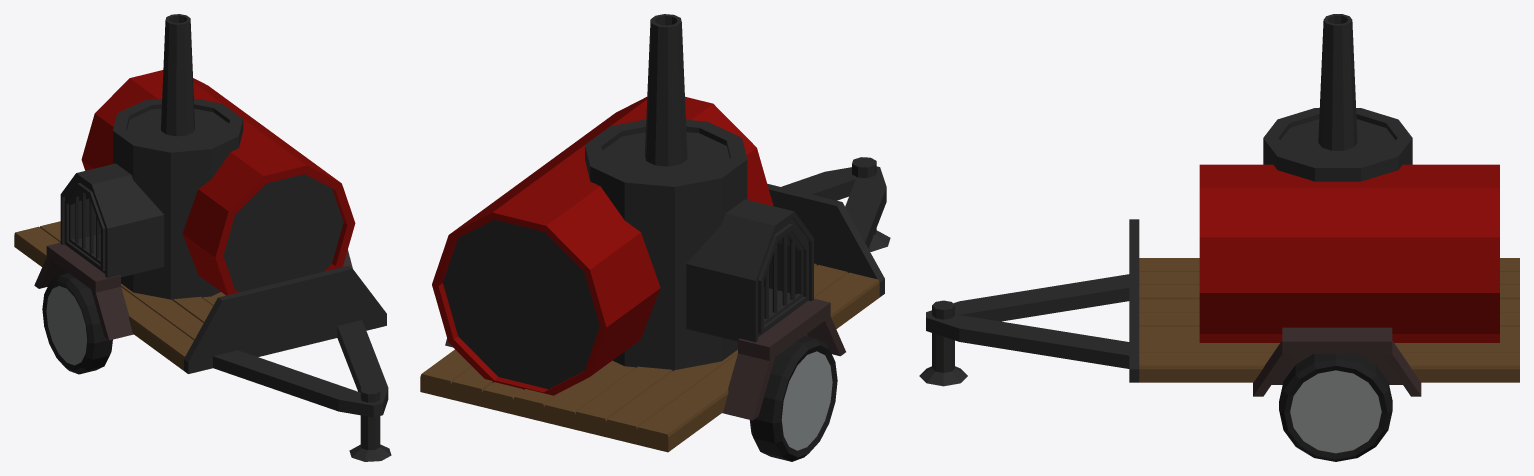
The model's file is generator.fbx.
The picture shows the model from 3 angles, left to right: view 1: azimuth 30°, elevation 25°; view 2: azimuth 150°, elevation 25°; view 3: azimuth 270°, elevation 25°; orthographic projection. The views are drawn at different scales.
Parts seen in each view (by area): view 1: Generator; view 2: Generator; view 3: Generator.
Part boxes in pixels (<box>): Generator: <box>14,14,391,461</box>; Generator: <box>420,14,890,461</box>; Generator: <box>919,14,1519,461</box>.
Size of the model in its own units: 226 by 268 by 402.
